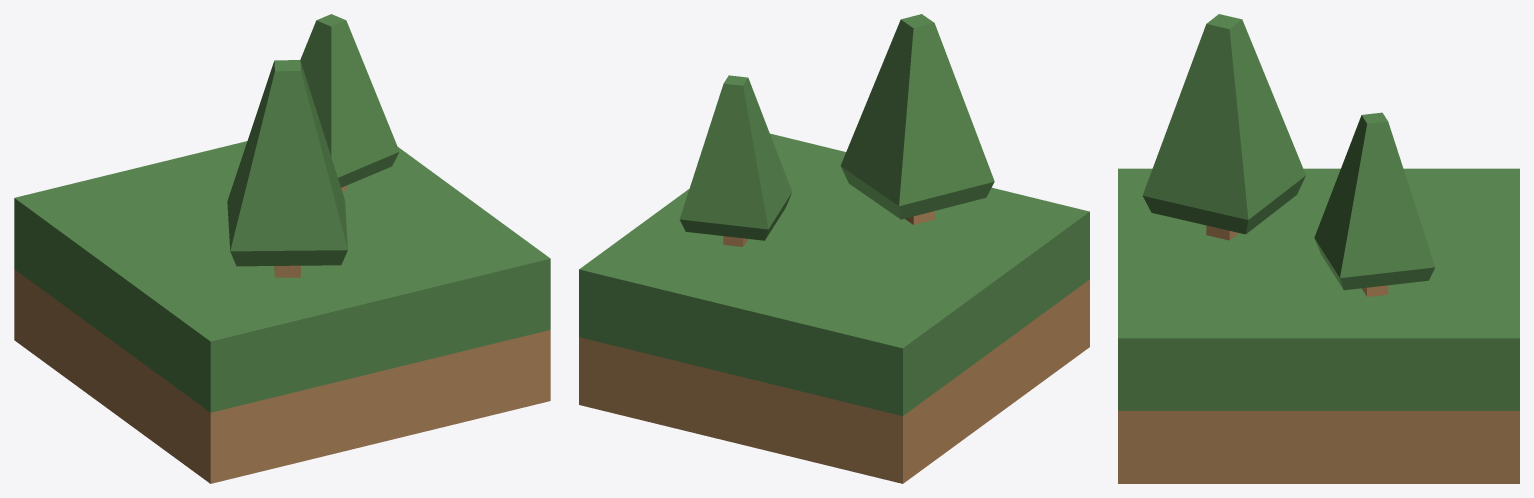
Rendered from tile_066.fbx.
The picture shows the model from 3 angles, left to right: view 1: azimuth 30°, elevation 25°; view 2: azimuth 150°, elevation 25°; view 3: azimuth 270°, elevation 25°; orthographic projection. The views are drawn at different scales.
Visible parts, largest first — view 1: tile_066, Component#2 (×2); view 2: tile_066, Component#2 (×2); view 3: tile_066, Component#2 (×2).
Boxes of the visible parts, left/top/right/bottom form: tile_066: left=14, top=141, right=550, bottom=483; Component#2 (×2): left=227, top=14, right=399, bottom=277; tile_066: left=579, top=133, right=1089, bottom=483; Component#2 (×2): left=679, top=14, right=994, bottom=246; tile_066: left=1118, top=168, right=1519, bottom=483; Component#2 (×2): left=1142, top=14, right=1435, bottom=296.
Size of the model in its own units: 10 by 9.8 by 10.
